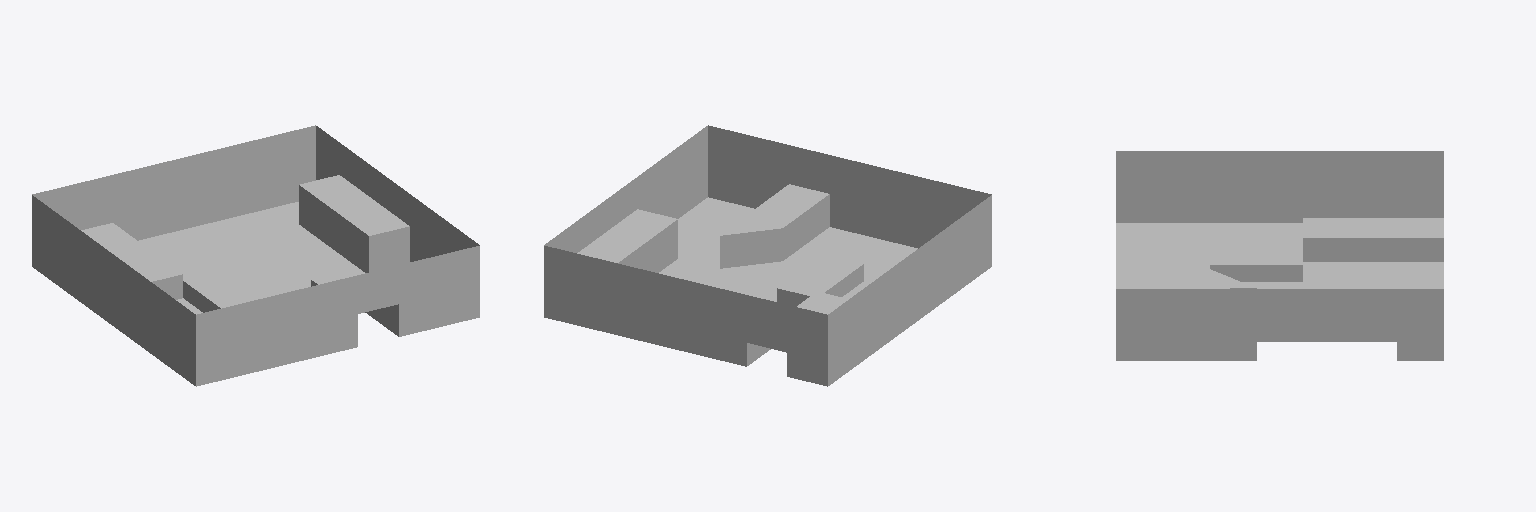
The model's file is level_platform.obj.
3 renders of one model, left to right at view 1: azimuth 30°, elevation 25°; view 2: azimuth 150°, elevation 25°; view 3: azimuth 270°, elevation 25°, orthographic.
Parts seen in each view (by area): view 1: Plane; view 2: Plane; view 3: Plane.
Part boxes in pixels (bbox=[...]): Plane: bbox=[32, 125, 479, 386]; Plane: bbox=[544, 125, 991, 386]; Plane: bbox=[1116, 151, 1443, 360].
Bounding box in the file's own units: 100 × 24.2 × 100.